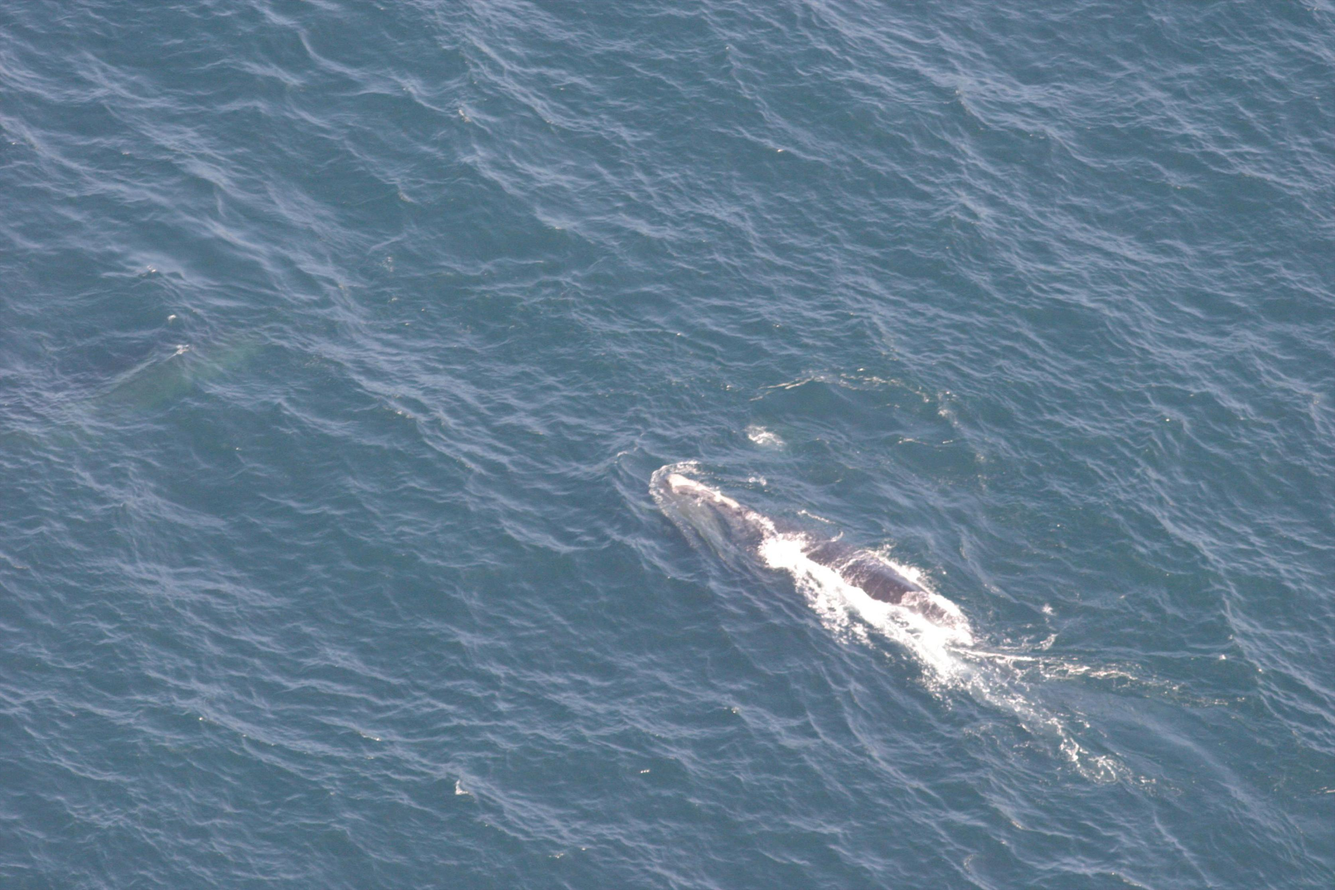whale: (648, 459, 1039, 685)
